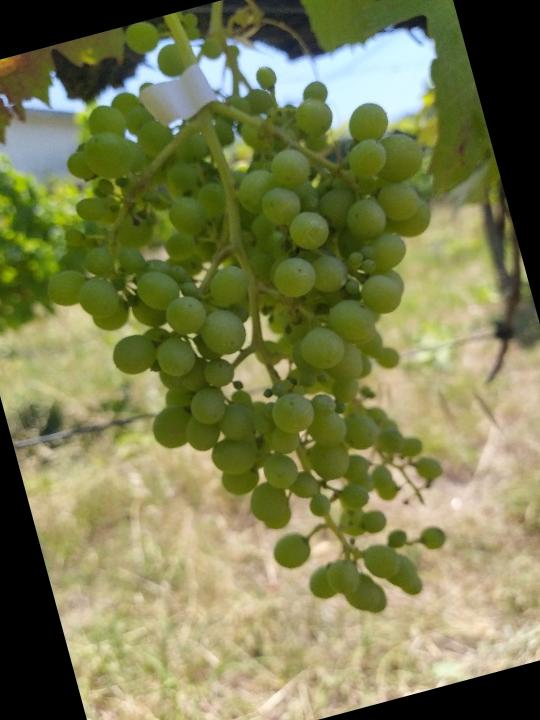grape: (0, 7, 540, 677)
